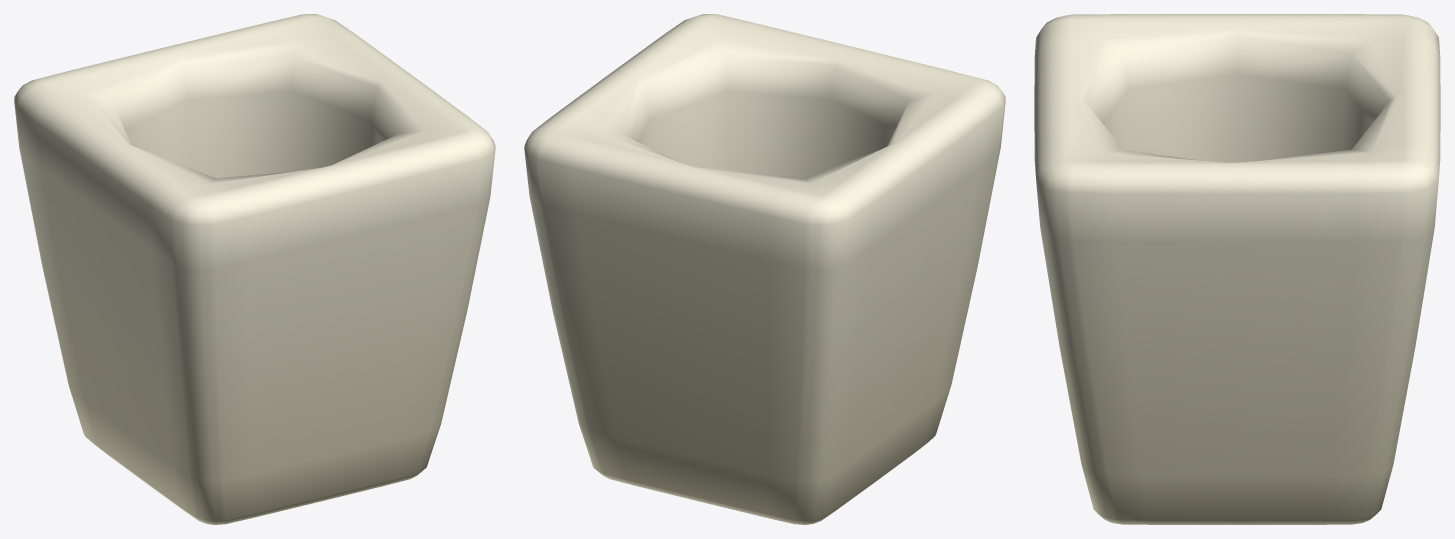
File: PlantPot_07.fbx
3 renders of one model, left to right at view 1: azimuth 30°, elevation 25°; view 2: azimuth 150°, elevation 25°; view 3: azimuth 270°, elevation 25°, orthographic. The views are drawn at different scales.
Visible parts, largest first — view 1: PlantPot_07; view 2: PlantPot_07; view 3: PlantPot_07.
Part boxes in pixels (<box>): PlantPot_07: <box>14,14,495,524</box>; PlantPot_07: <box>524,14,1005,524</box>; PlantPot_07: <box>1034,14,1440,524</box>.
Size of the model in its own units: 16.36 by 16.85 by 16.36.
